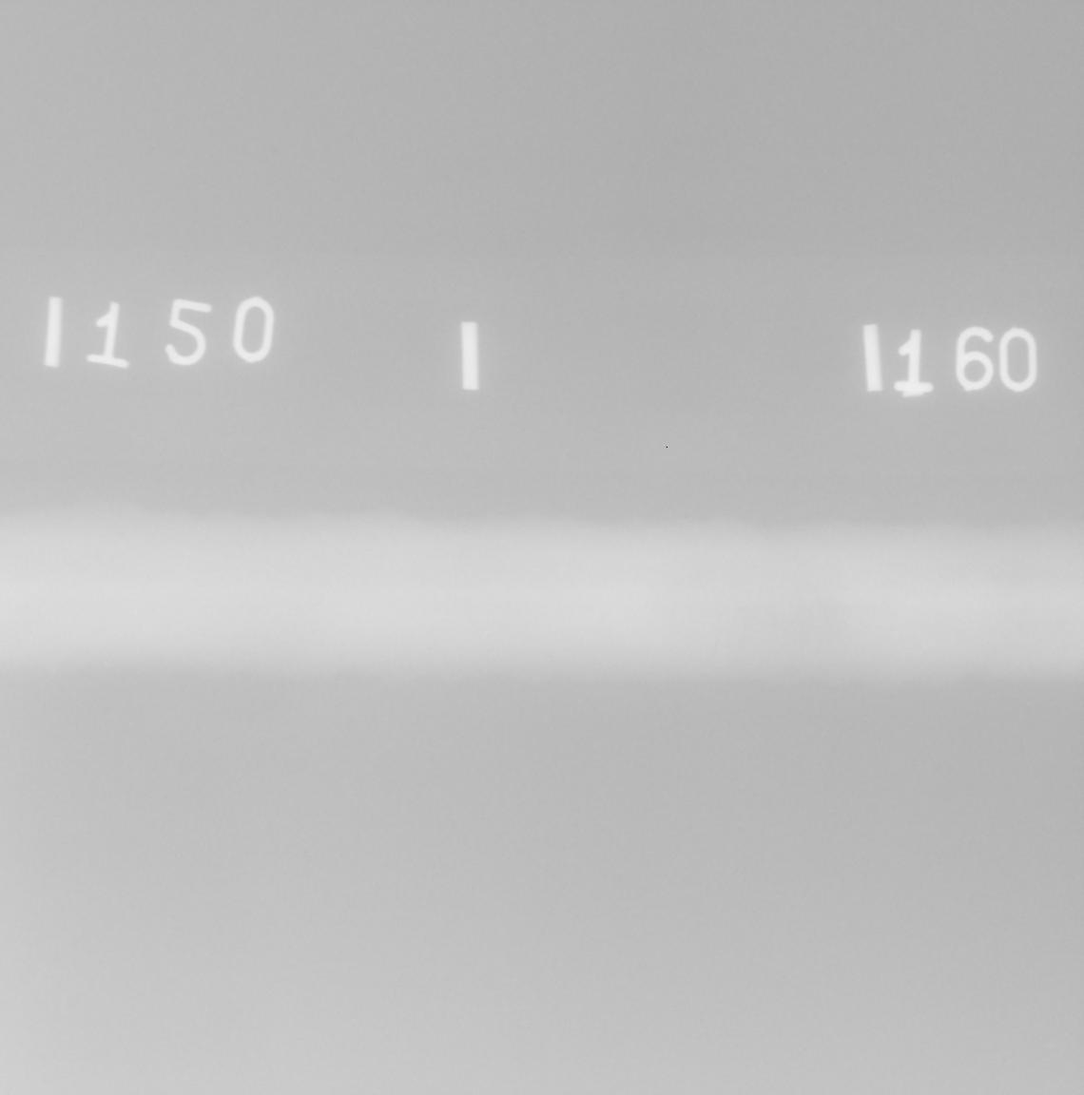Pore/Porosity: (118, 533, 123, 537)
